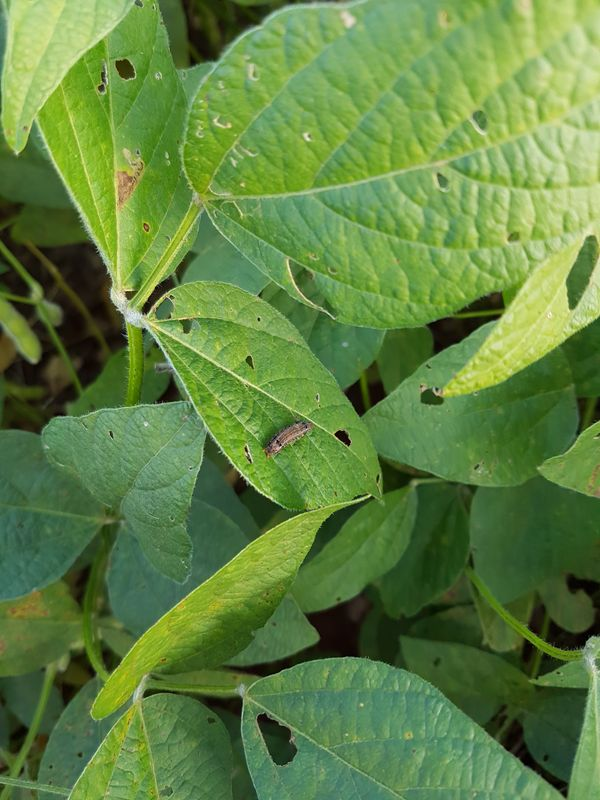Spodoptera_albula: (258, 414, 320, 464)
